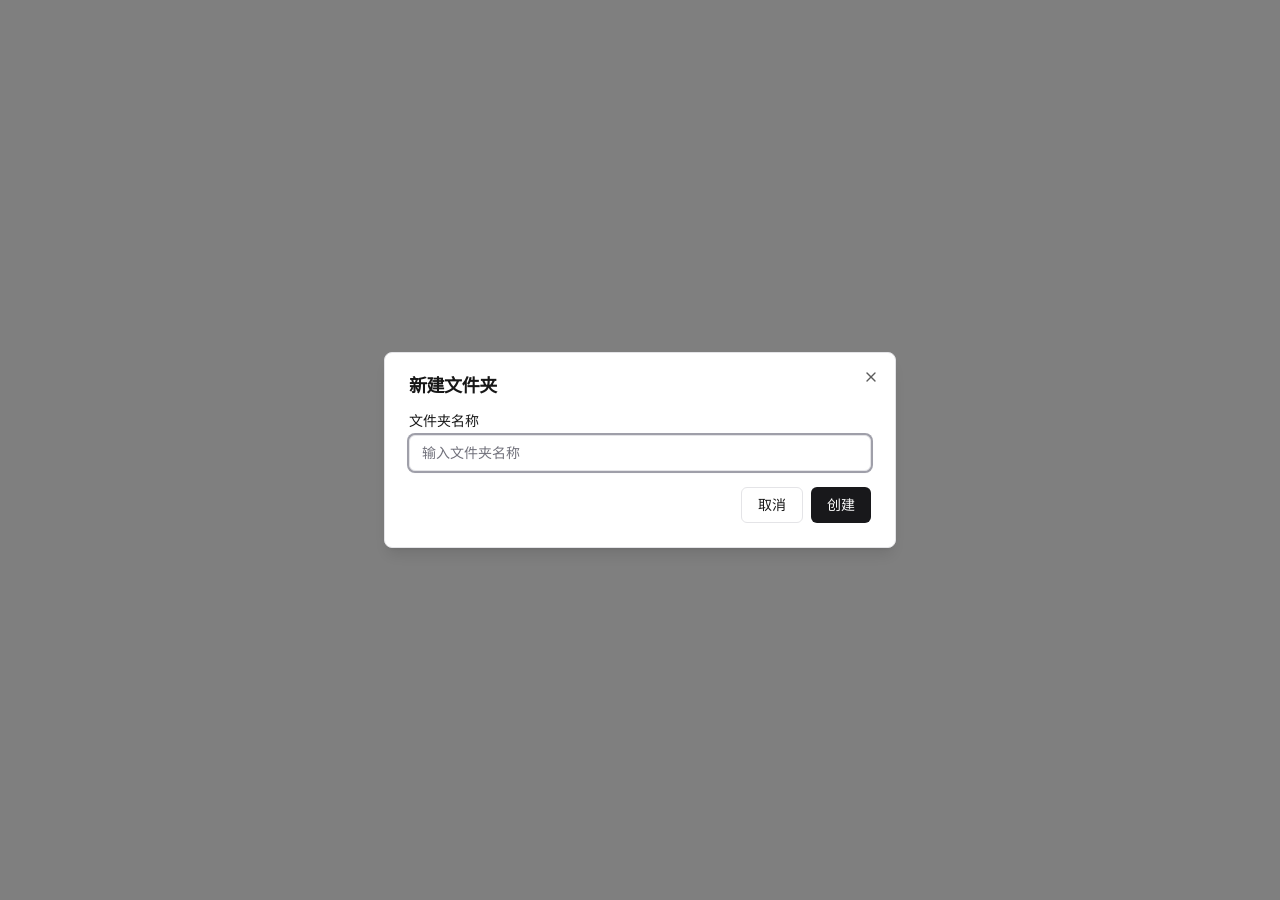
Test case: CreateFolderDialog › clears error on input change
Click the button "创建" at coordinates (841, 505), box top-left (811, 487), bottom-right (871, 523)
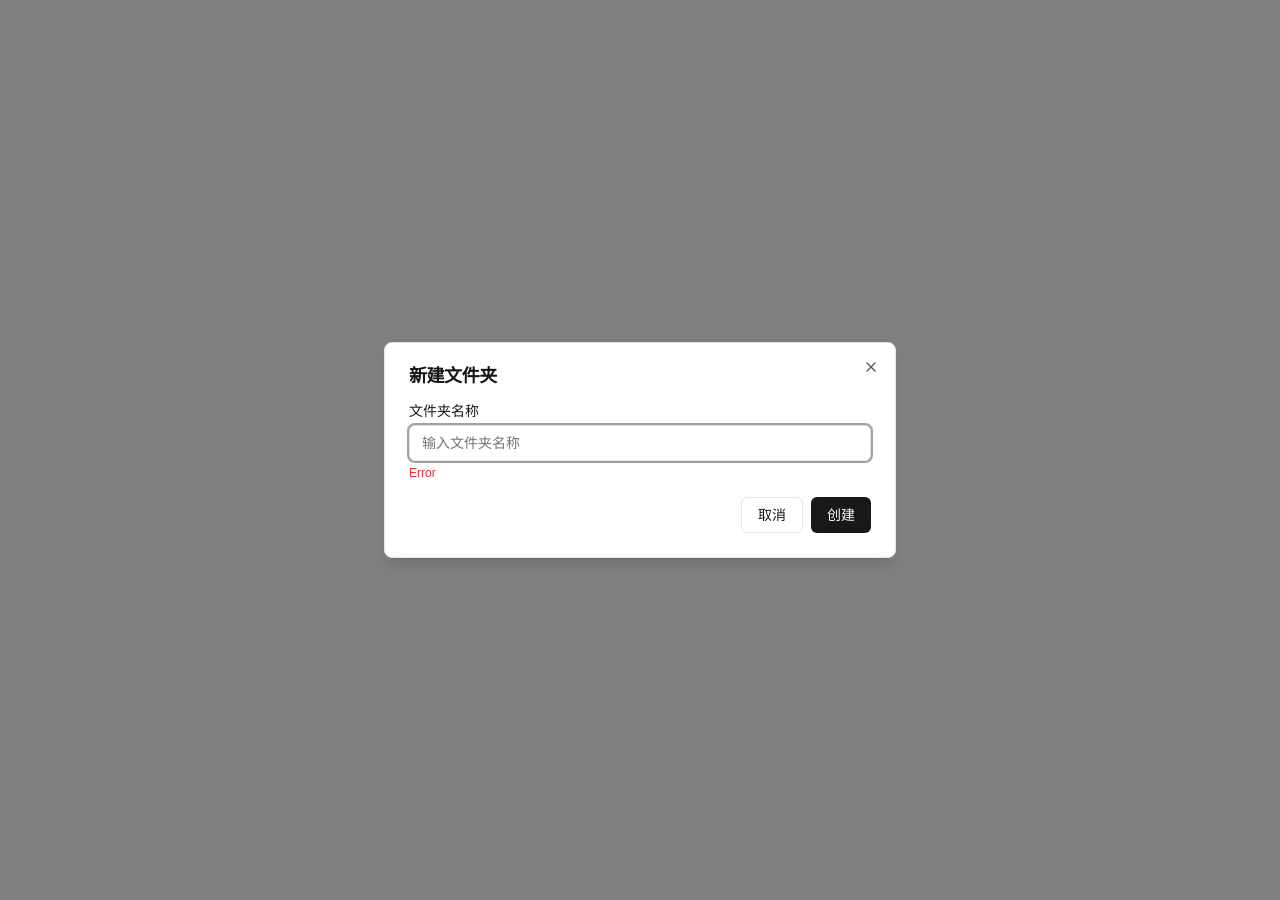
Expected: the text "Error" is shown, top-left (409, 466), bottom-right (436, 480)
Type "new name" into the field with placeholder "输入文件夹名称" at coordinates (640, 443), box top-left (409, 425), bottom-right (871, 461)
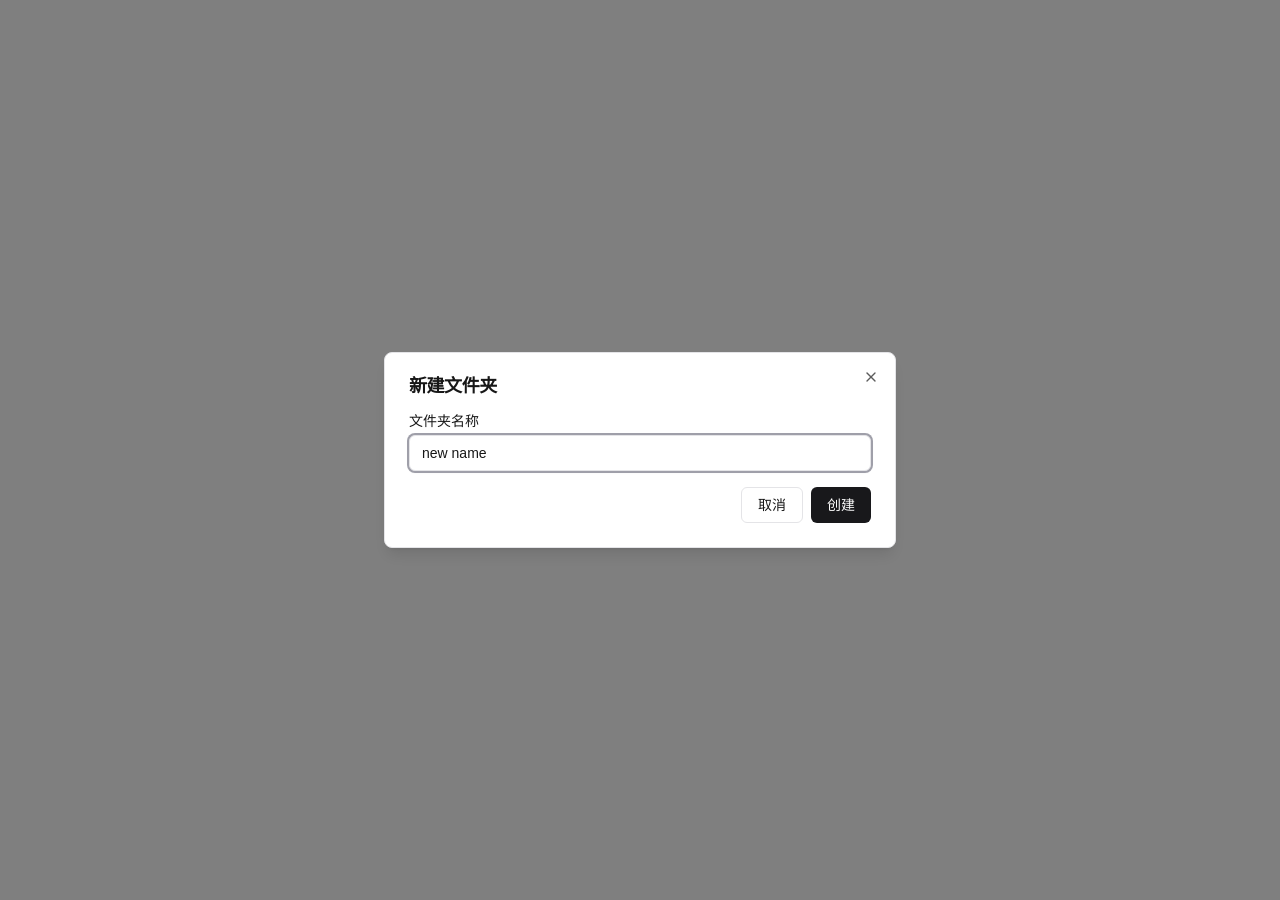
Expected: the text "Error" is gone
